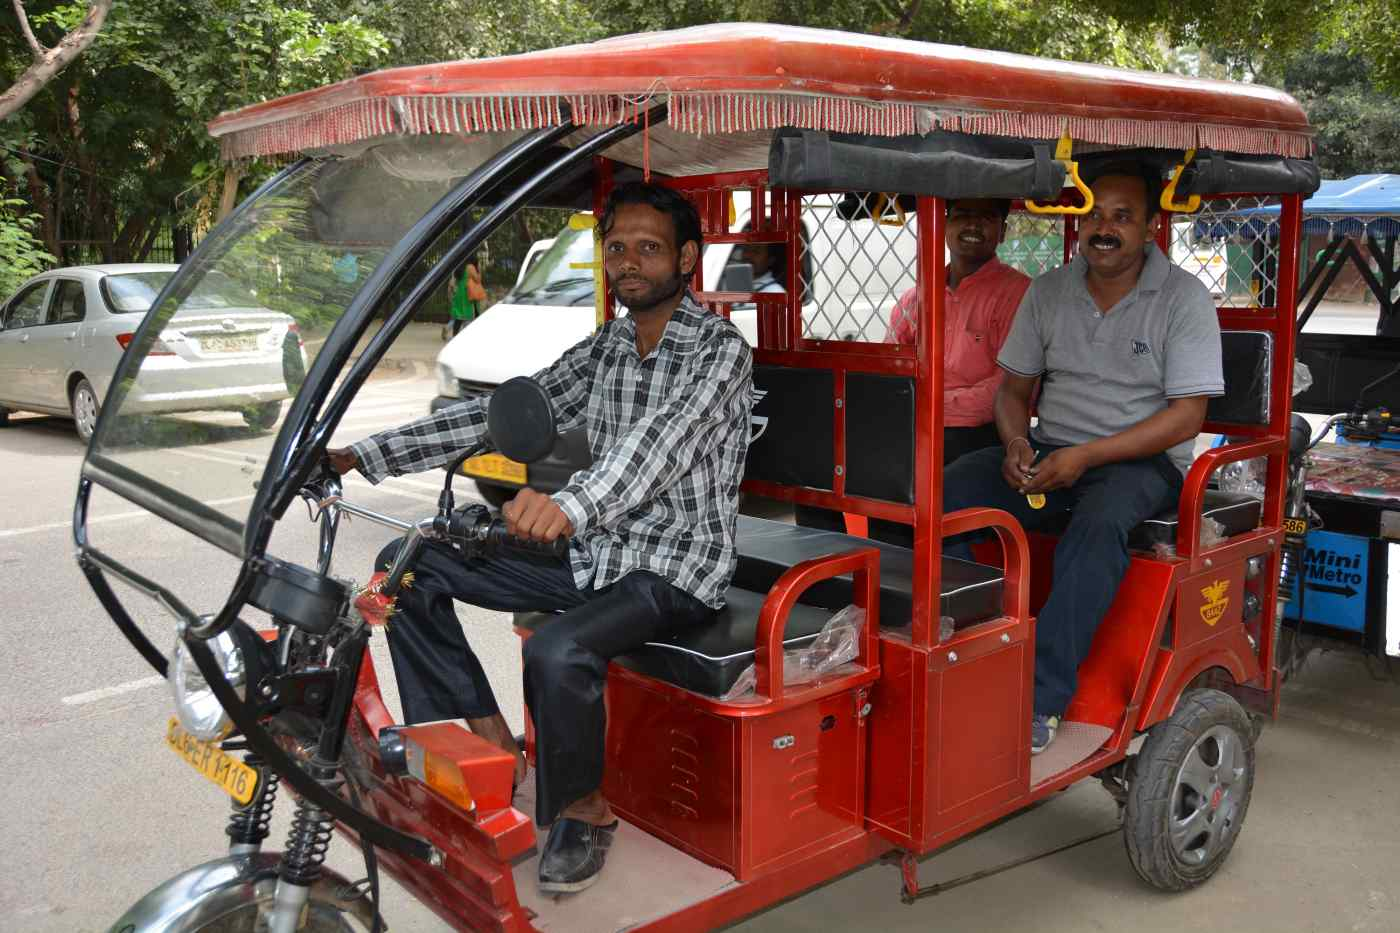rickshaw: (43, 22, 1292, 898)
